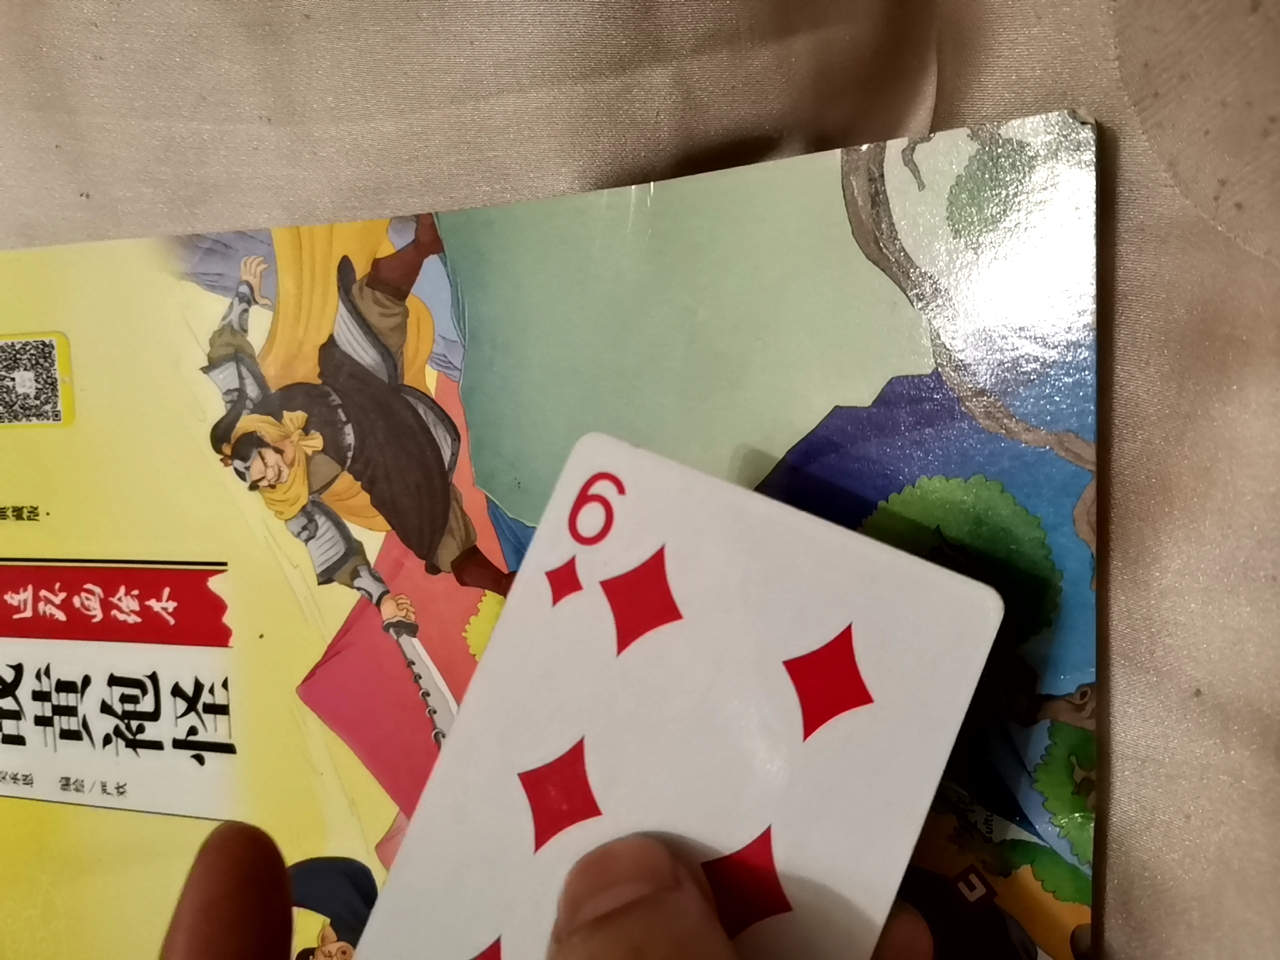fk 6: (288, 451, 1002, 955)
